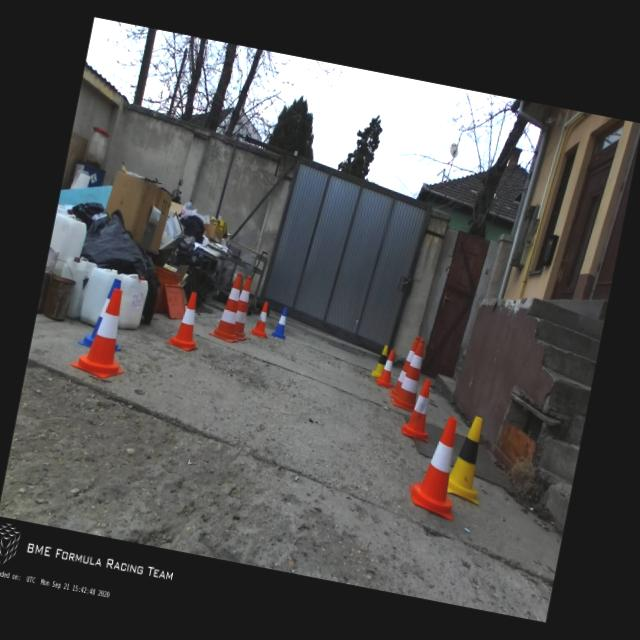blue_cone: (77, 274, 135, 354), (270, 305, 292, 339)
large_orange_cone: (208, 270, 251, 344), (390, 336, 428, 412), (388, 334, 421, 401), (232, 274, 259, 342)
orange_cone: (405, 412, 473, 522), (70, 283, 139, 382), (166, 288, 208, 352), (400, 376, 440, 442), (375, 347, 399, 389), (250, 300, 274, 339)
yellow_cone: (445, 412, 496, 506), (372, 342, 389, 378)
